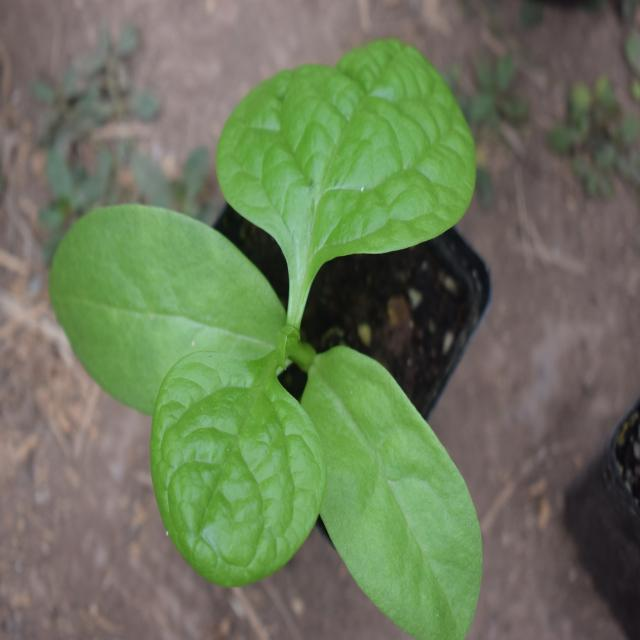Ceylon spinach: (56, 57, 480, 632)
